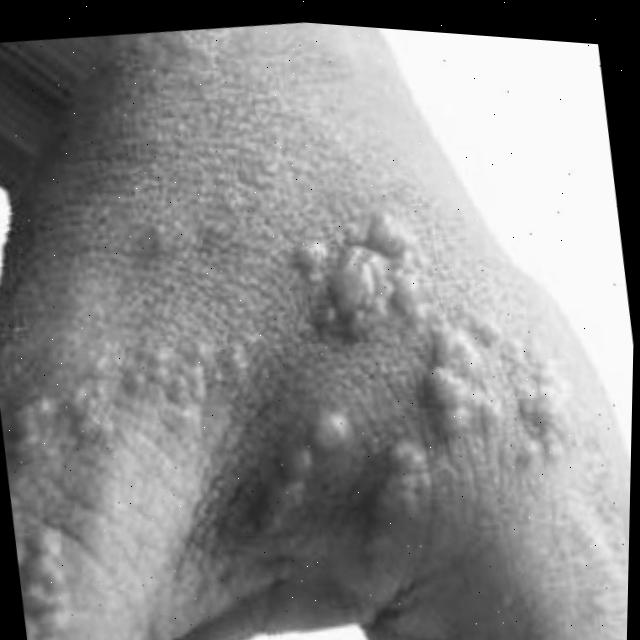Shingles: (0, 159, 632, 640)
